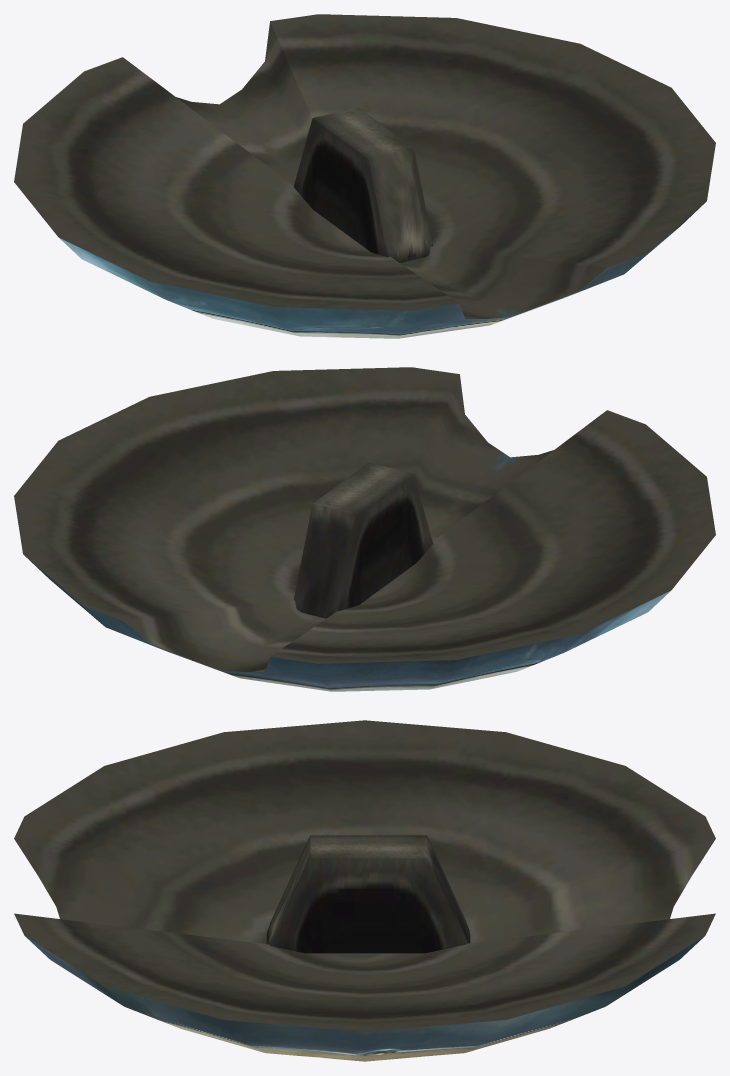
3 renders of one model, top to bottom at view 1: azimuth 30°, elevation 25°; view 2: azimuth 150°, elevation 25°; view 3: azimuth 270°, elevation 25°, orthographic. The views are drawn at different scales.
Visible parts, largest first — view 1: i100004_obj; view 2: i100004_obj; view 3: i100004_obj.
Boxes of the visible parts, x1,y1,x2,y2 form: i100004_obj: [14, 14, 715, 338]; i100004_obj: [14, 367, 715, 691]; i100004_obj: [14, 720, 715, 1061].
Bounding box in the file's own units: 38.2 × 10.09 × 36.38.
1 material, 1 textured.
